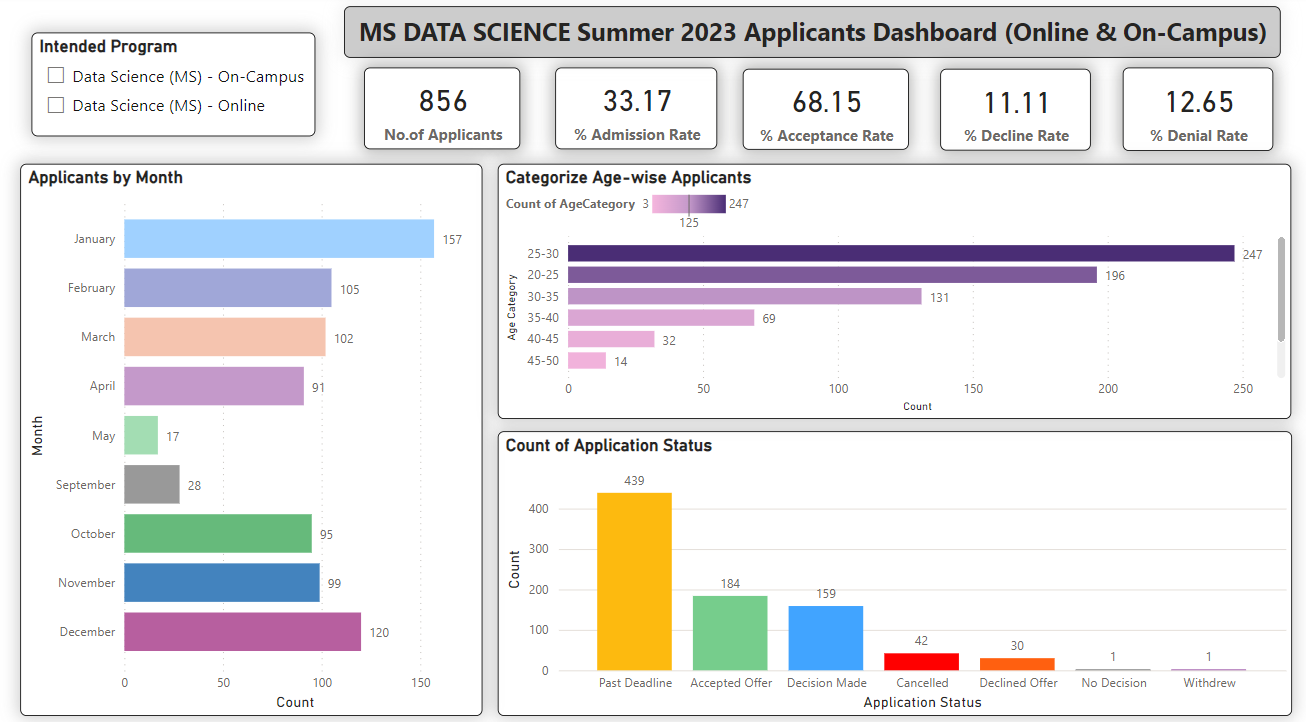

What the dashboard file says about the page in this screenshot:
{"tool":"powerbi","page":{"name":"MSDS Applicants Dashboard","canvas":[1280,720],"ordinal":0},"visuals":[{"type":"card","fields":{"Values":["MSDS.AcceptanceRate"]},"box":[544.6,70.7,158.6,80],"z":0},{"type":"clusteredColumnChart","title":"Count of Application Status","fields":{"Category":["MSDS.Application Status"],"Y":["CountNonNull(MSDS.Application Status)"]},"box":[487.1,427.1,777.1,278.6],"z":1000},{"type":"slicer","title":"Intended Program","fields":{"Values":["MSDS.Intended Program"]},"box":[31.8,36.7,277.5,101.5],"z":2000},{"type":"textbox","box":[337.1,11.4,915.7,50],"z":3000},{"type":"card","fields":{"Values":["MSDS.%AcceptanceRate"]},"box":[727.3,71.9,162.6,79.5],"z":4000},{"type":"card","fields":{"Values":["MSDS.%DeclineRate"]},"box":[920.3,72.1,147.1,80],"z":5000},{"type":"card","fields":{"Values":["MSDS.%DenialRate"]},"box":[1098.9,70.7,147.1,81.4],"z":6000},{"type":"card","fields":{"Values":["Count(MSDS.Application: Application ID)"]},"box":[357.4,70.7,152.9,80],"z":7000},{"type":"clusteredBarChart","title":"Applicants by Month","fields":{"Category":["MSDS.Application: Created Date.Variation.Date Hierarchy.Month","MSDS.Application: Created Date.Variation.Date Hierarchy.Day"],"Y":["MSDS.NonCancelled_ID's"]},"box":[20.8,165,452.3,540.3],"z":8000},{"type":"clusteredBarChart","title":"Categorize Age-wise Applicants","fields":{"Category":["MSDS.AgeCategory"],"Y":["CountNonNull(MSDS.Application: Application ID)"]},"box":[487.7,165,776.2,249.4],"z":9000}]}

Visuals, with their boxes in screenshot pixels (x1, y1, x2, y2), scaled from the page's 1280x720 canvas onto the 1306x722 screenshot:
card - MSDS.AcceptanceRate: (556, 71, 717, 151)
"Count of Application Status" clusteredColumnChart: (497, 428, 1290, 708)
"Intended Program" slicer: (32, 37, 316, 139)
textbox: (344, 11, 1278, 62)
card - MSDS.%AcceptanceRate: (742, 72, 908, 152)
card - MSDS.%DeclineRate: (939, 72, 1089, 153)
card - MSDS.%DenialRate: (1121, 71, 1271, 153)
card - Count(MSDS.Application: Application ID): (365, 71, 521, 151)
"Applicants by Month" clusteredBarChart: (21, 165, 483, 707)
"Categorize Age-wise Applicants" clusteredBarChart: (498, 165, 1290, 416)
